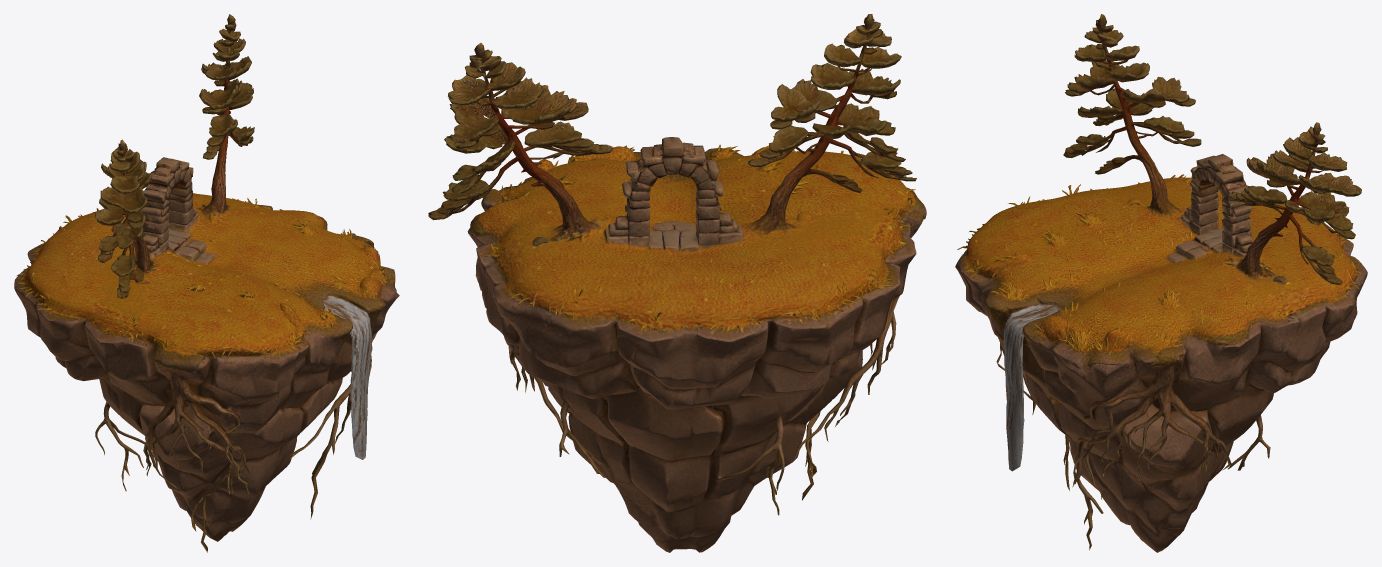
The model's file is island-c.glb.
3 views of the same model, side by side, from view 1: azimuth 30°, elevation 25°; view 2: azimuth 150°, elevation 25°; view 3: azimuth 270°, elevation 25° (orthographic). The views are drawn at different scales.
Visible parts, largest first — view 1: tripo_node_a0cd5090-adec-4bfc-9451-f1aee61d096b; view 2: tripo_node_a0cd5090-adec-4bfc-9451-f1aee61d096b; view 3: tripo_node_a0cd5090-adec-4bfc-9451-f1aee61d096b.
Part boxes in pixels (box(x1,y1,x2,y2)): tripo_node_a0cd5090-adec-4bfc-9451-f1aee61d096b: box(14, 14, 399, 552); tripo_node_a0cd5090-adec-4bfc-9451-f1aee61d096b: box(428, 14, 926, 552); tripo_node_a0cd5090-adec-4bfc-9451-f1aee61d096b: box(955, 14, 1367, 552).
Size of the model in its own units: 1.96 by 2.5 by 2.
1 material, 1 textured.
